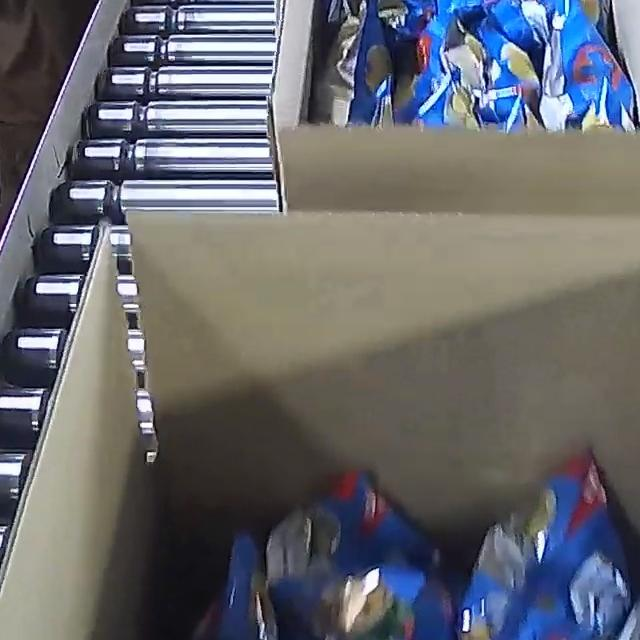paprika: (128, 448, 640, 640), (324, 0, 640, 134)
